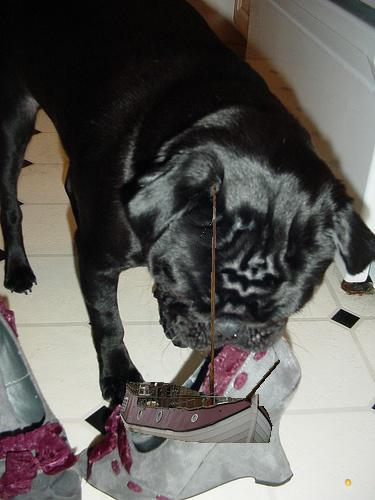tampered: (120, 185, 280, 443)
